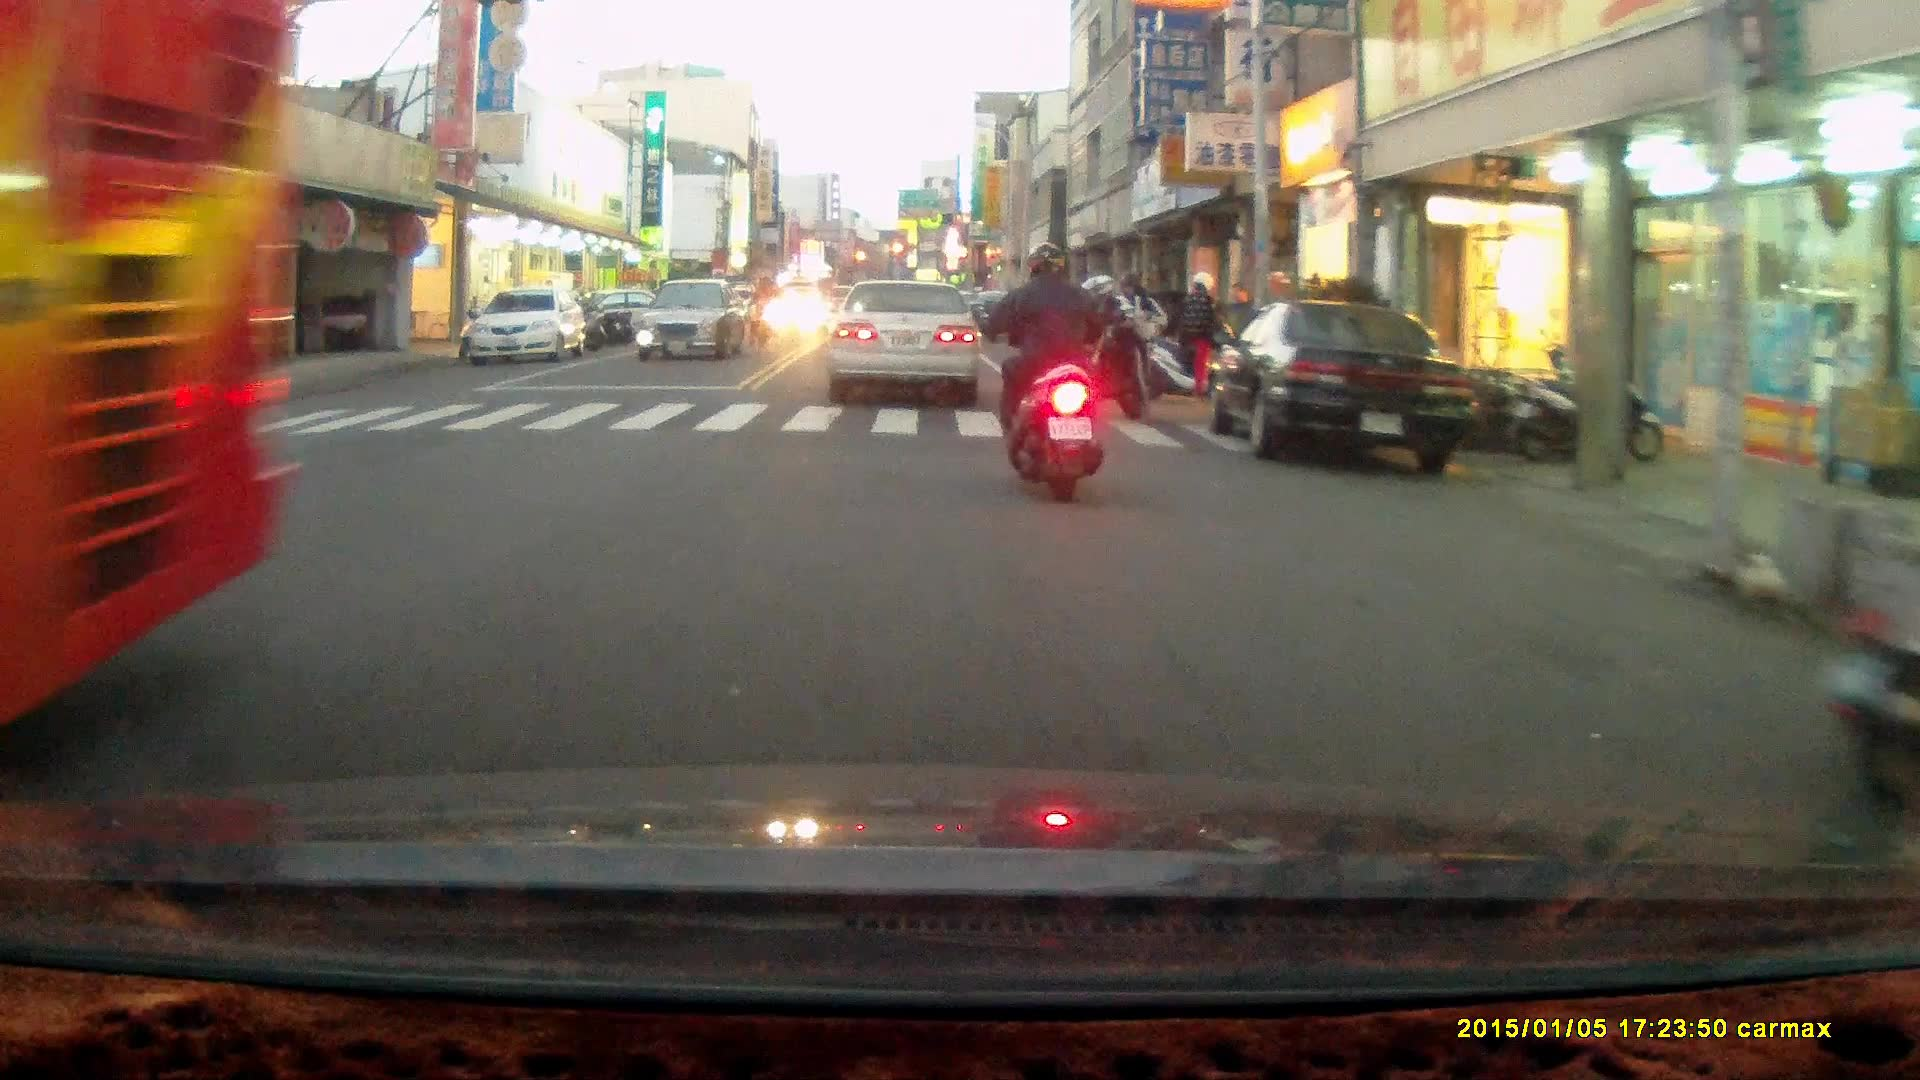pedestrian: (1183, 267, 1224, 405)
rider: (984, 239, 1109, 503), (1062, 268, 1169, 420), (743, 274, 789, 359)
vehicle: (1, 16, 300, 717), (1205, 302, 1484, 471), (835, 278, 997, 408), (464, 290, 584, 367), (642, 279, 748, 359)
